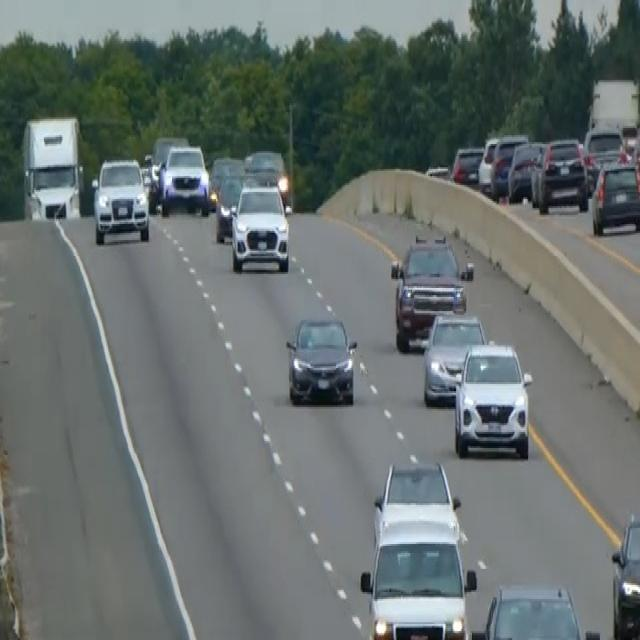car: (359, 521, 476, 638), (453, 339, 533, 458), (371, 457, 461, 544), (482, 580, 599, 638), (284, 313, 357, 405), (422, 310, 488, 406), (229, 181, 290, 274), (90, 154, 150, 243), (531, 135, 588, 213), (590, 156, 639, 234), (609, 512, 639, 638), (158, 142, 209, 215), (214, 170, 258, 242), (582, 124, 625, 188), (243, 148, 290, 205), (489, 132, 528, 199), (507, 138, 545, 202), (147, 134, 188, 188), (207, 153, 244, 208), (451, 144, 483, 185), (477, 133, 499, 192), (631, 124, 639, 220)
jeep: (389, 231, 473, 350)
lorry: (21, 112, 84, 222)
